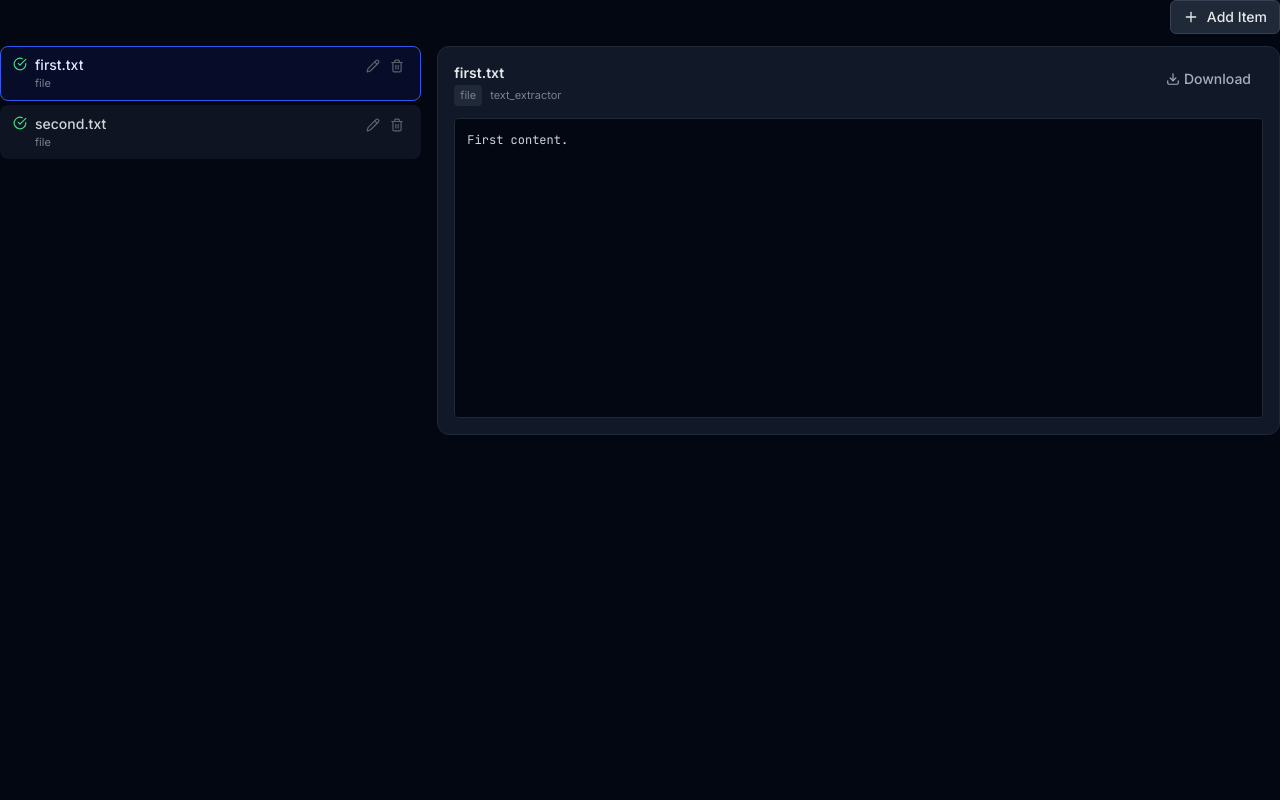
EvidenceTab — delete flow › asks for confirmation, then deletes and lets the list re-select another item
Expected: the text "First content." is shown, [454,118,1263,418]
Click the 1st button titled "Remove".
click(397, 66)  # box [386,55,408,77]
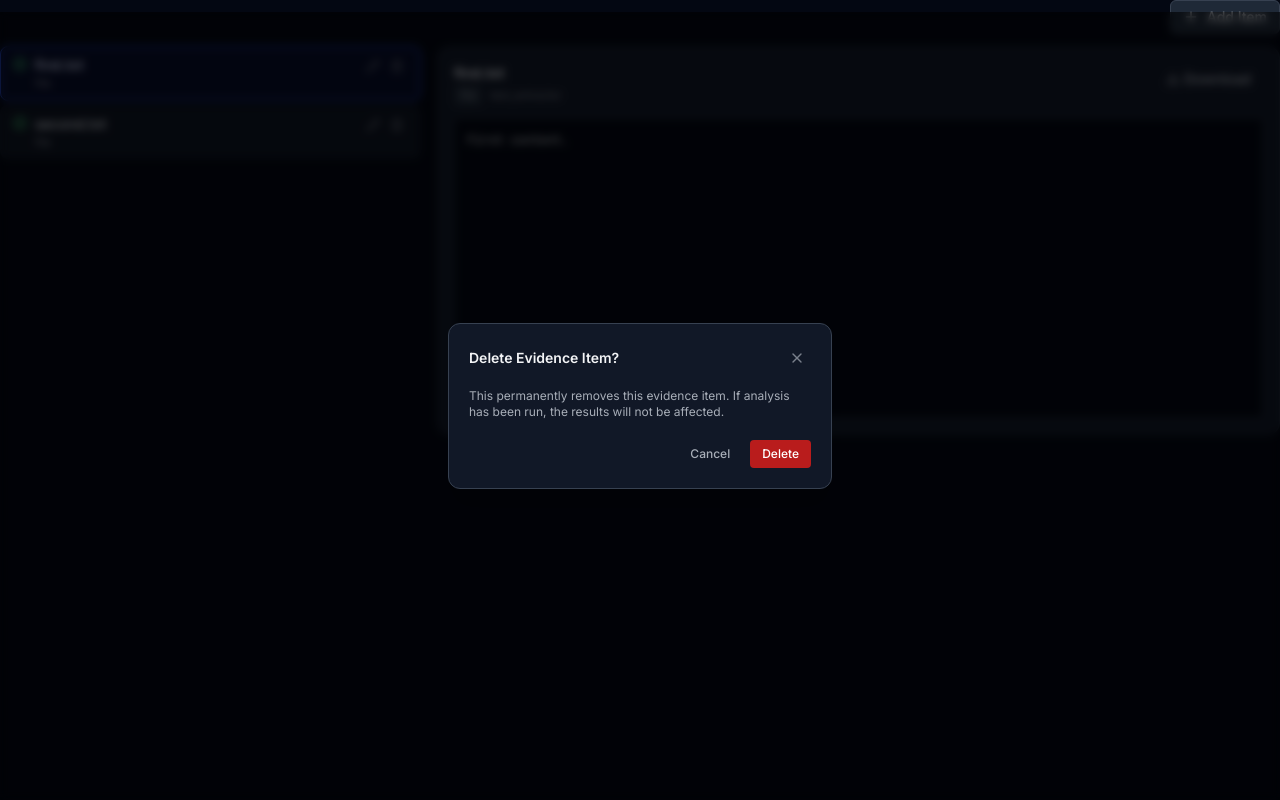
Expected: the heading "Delete Evidence Item?" is shown, [469,348,619,368]
Click the button "Delete".
click(781, 454)  # box [750,440,811,468]
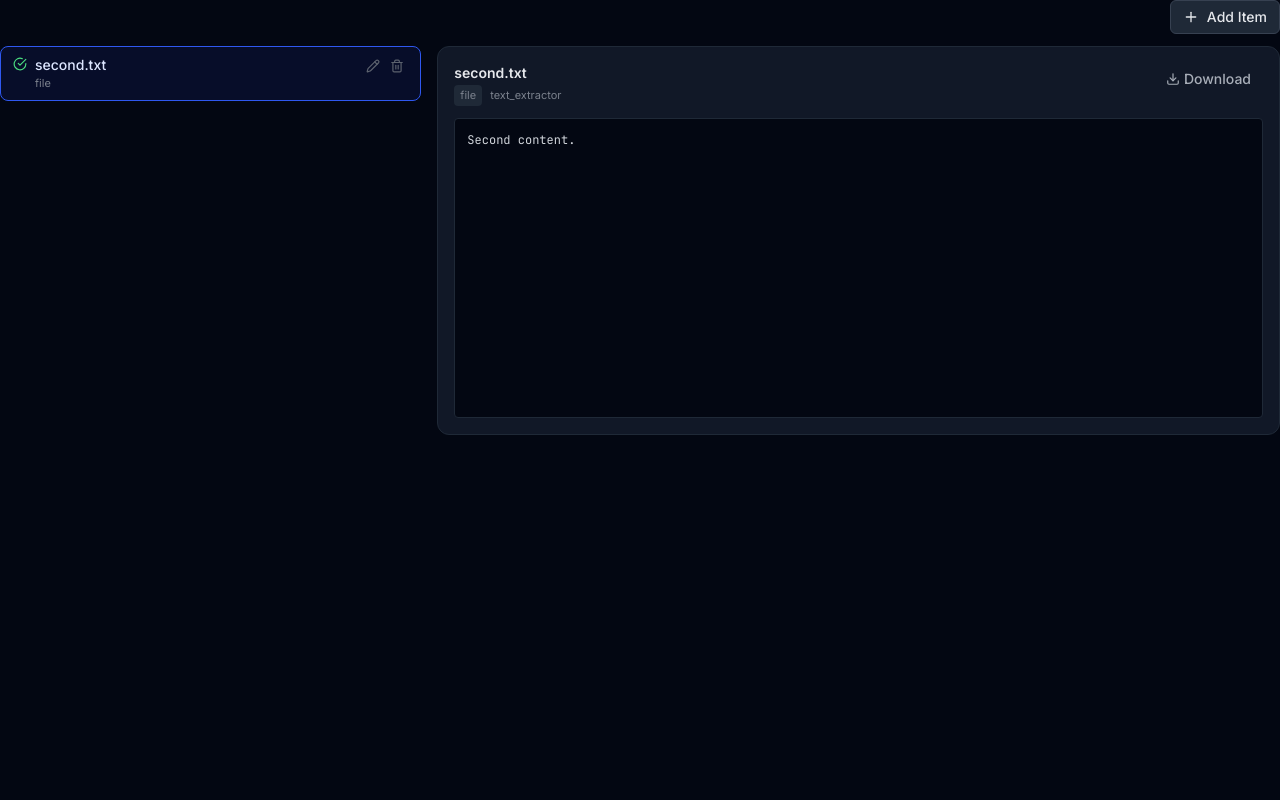
Expected: the text "Second content." is shown, [454,118,1263,418]
